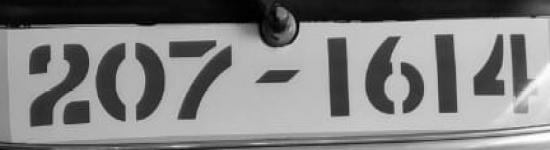-: (247, 66, 308, 95)
0: (93, 34, 168, 129)
1: (318, 31, 359, 121), (430, 29, 468, 125)
4: (470, 27, 543, 121)
5: (22, 37, 93, 134)
6: (360, 30, 431, 126)
7: (168, 31, 238, 130)
